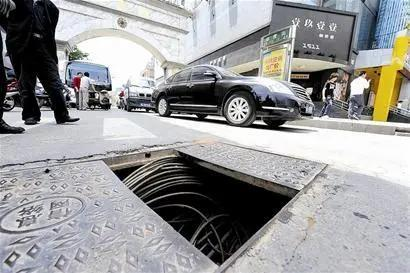wellcover: (0, 132, 310, 272)
